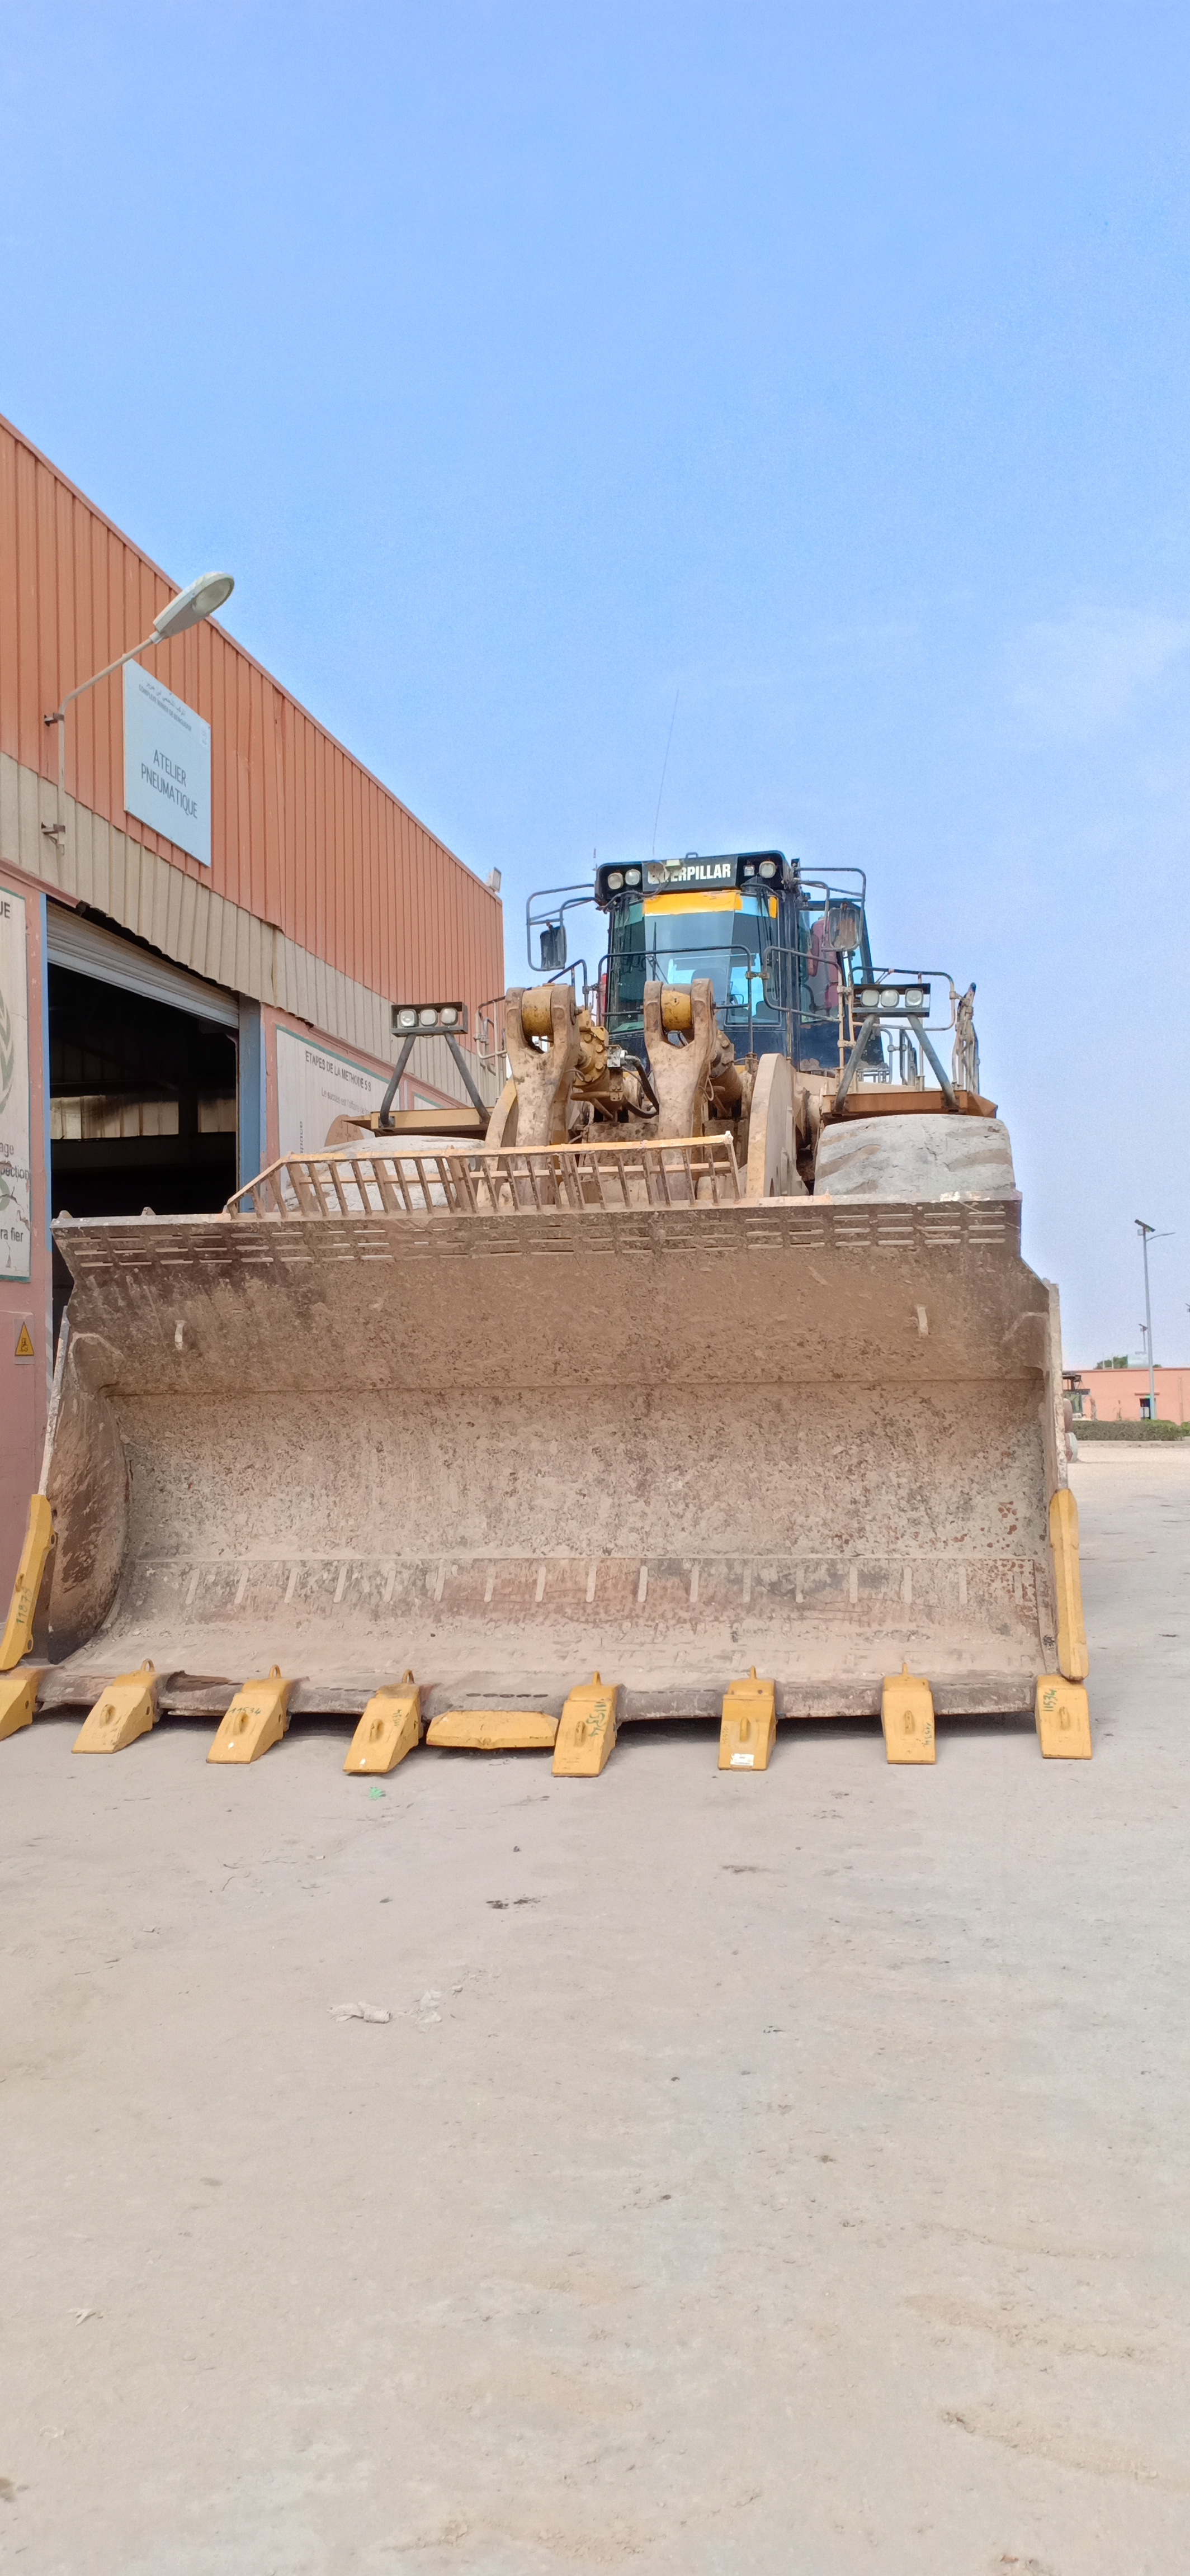chargeuse: (0, 823, 1137, 1850)
